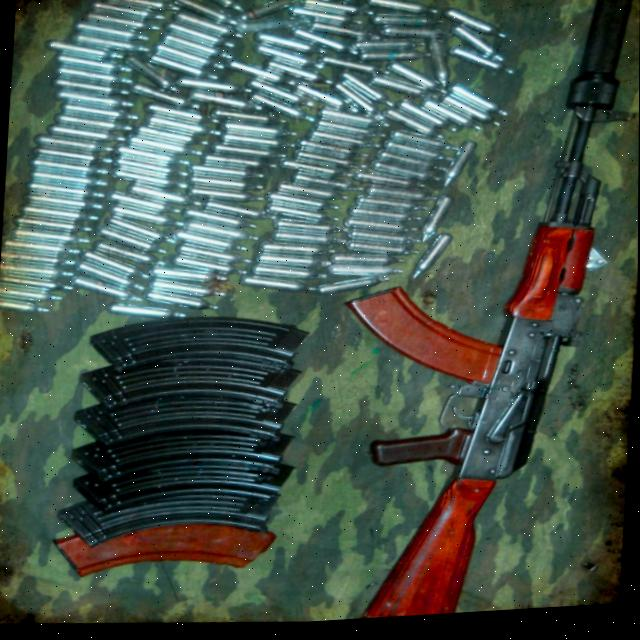firearm: (325, 0, 640, 625)
